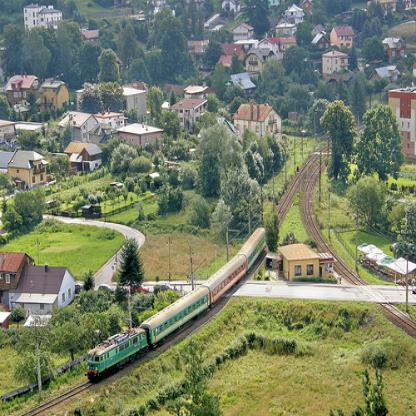train: (87, 225, 264, 381)
